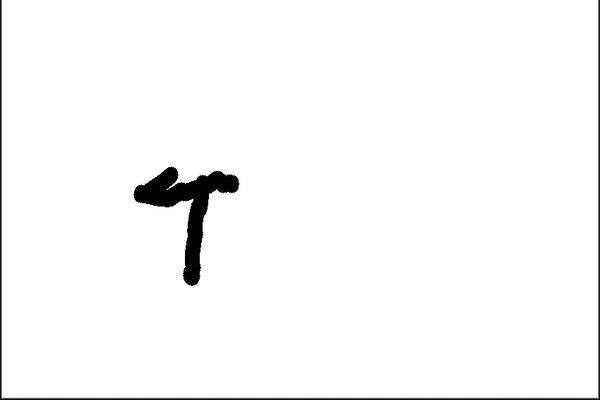T: (131, 160, 243, 286)
